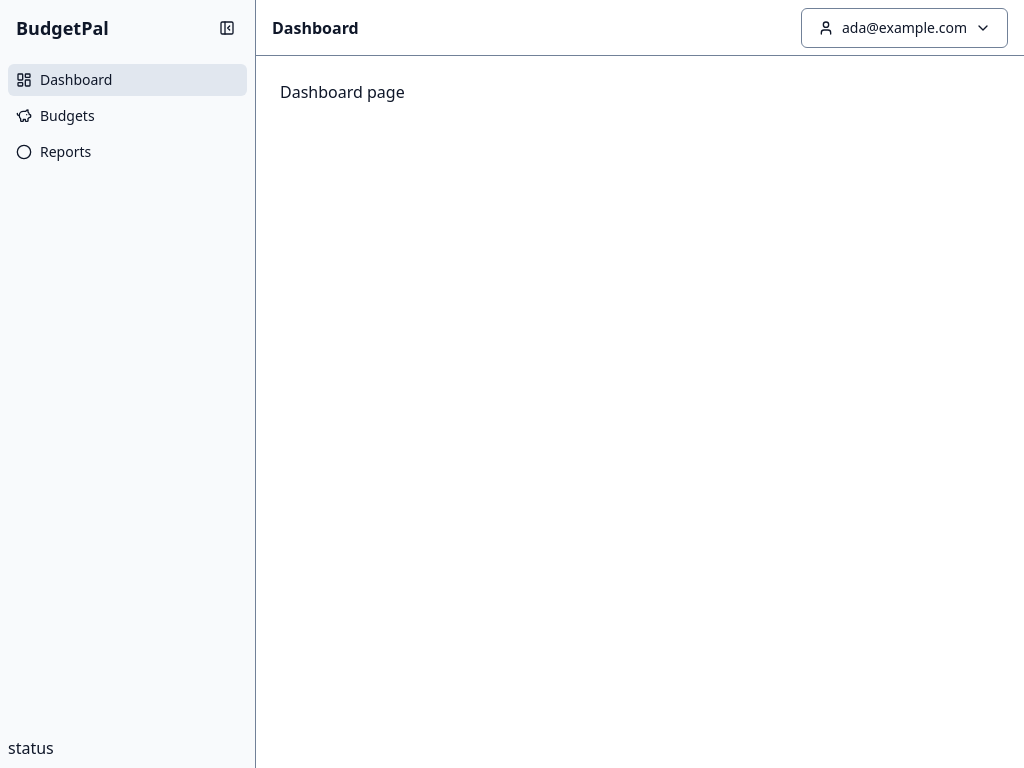
AppSidebar collapse › SPEC-010 T-037 has a labelled collapse button that toggles to icons and back
Click the button named "Collapse sidebar": (227, 28) [207,8,247,48]
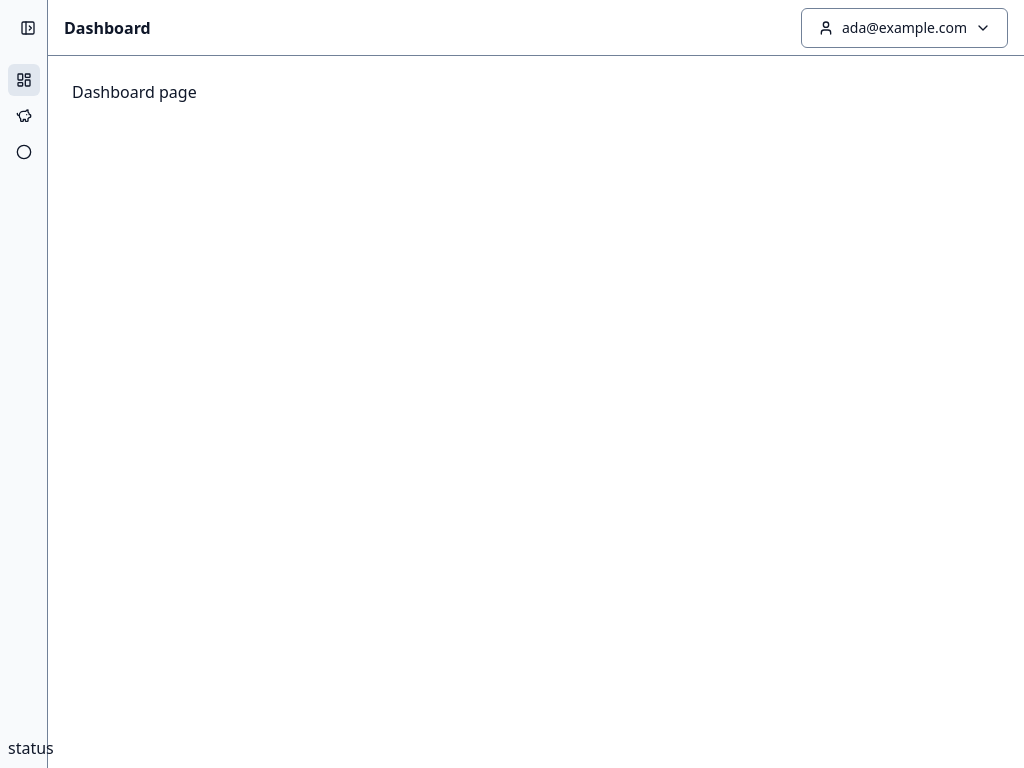
Expected: the element showing "status" is shown, [0,0,48,767]
Now the button named "Expand sidebar" is collapsed
Click the button named "Expand sidebar": (28, 28) [8,8,48,48]
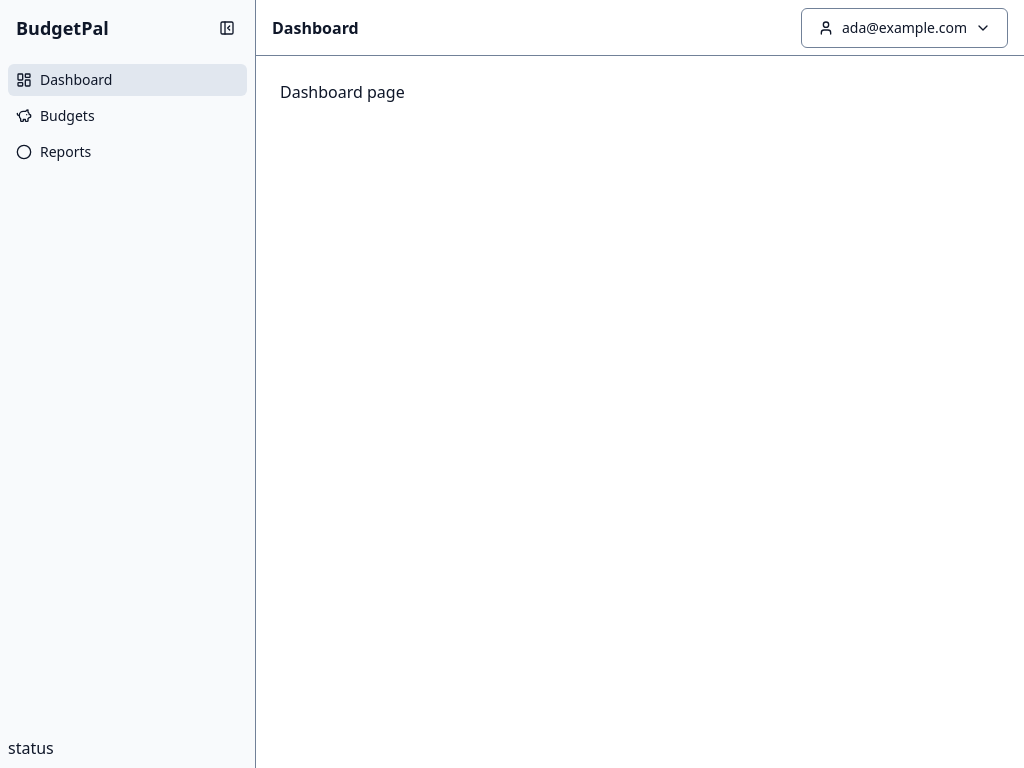
Now the button named "Collapse sidebar" is shown, box [207,8,247,48]
